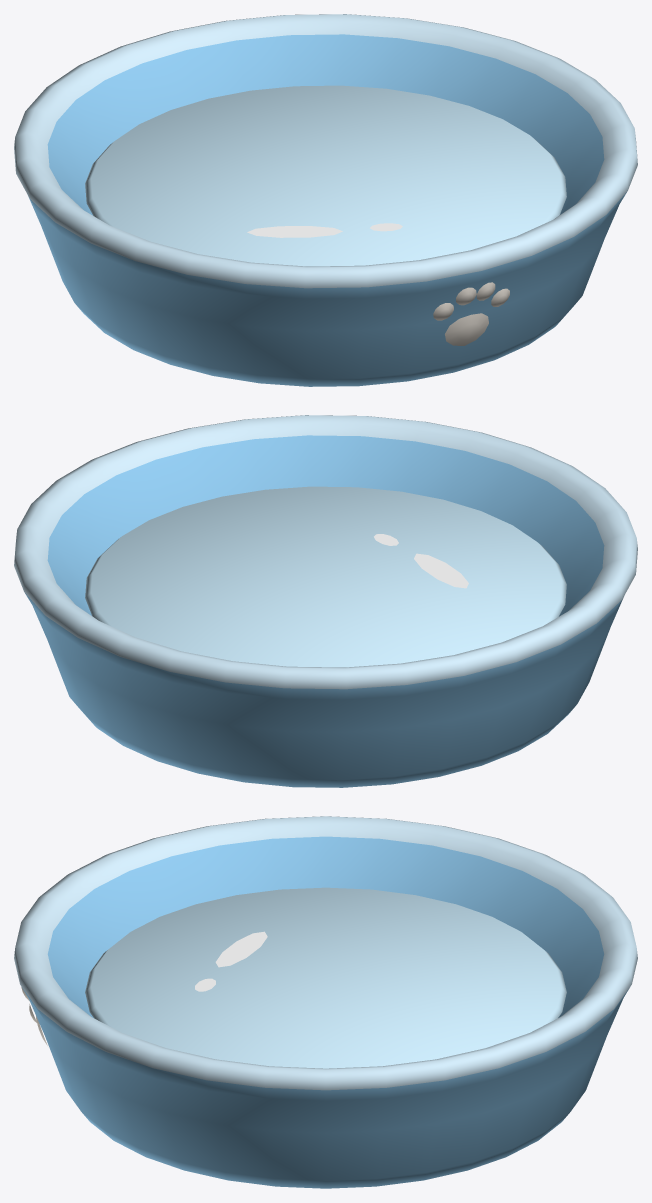
File: water.glb
3 views of the same model, one above another, from view 1: azimuth 30°, elevation 25°; view 2: azimuth 150°, elevation 25°; view 3: azimuth 270°, elevation 25° (orthographic).
Visible parts, largest first — view 1: water_bowl, water_liquid; view 2: water_bowl, water_liquid; view 3: water_bowl, water_liquid.
Part boxes in pixels (x1,y1,x2,y2): water_bowl: (14, 14, 637, 386); water_liquid: (85, 85, 566, 266); water_bowl: (14, 415, 637, 787); water_liquid: (85, 486, 566, 667); water_bowl: (14, 816, 637, 1188); water_liquid: (85, 887, 566, 1068).
Bounding box in the file's own units: 0.259 × 0.0655 × 0.259.
